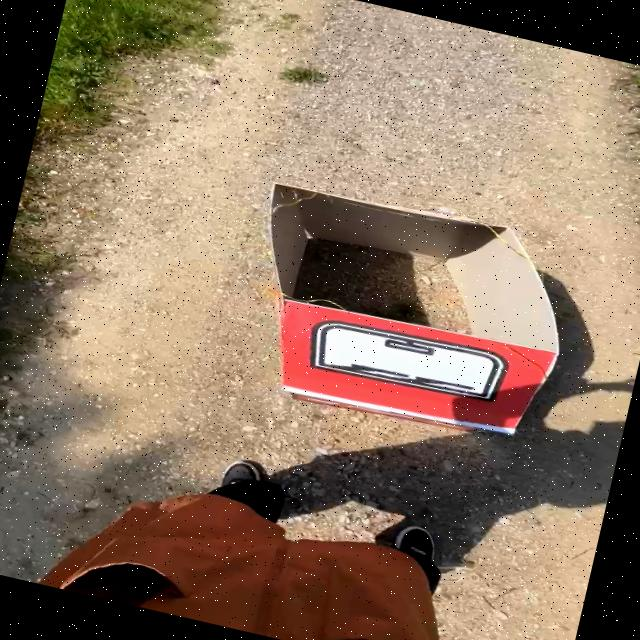red_car: (200, 144, 606, 481)
